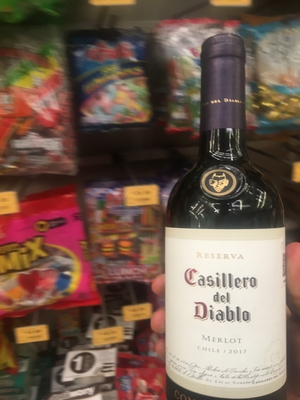casillero del diablo merlot: (149, 36, 295, 400)
